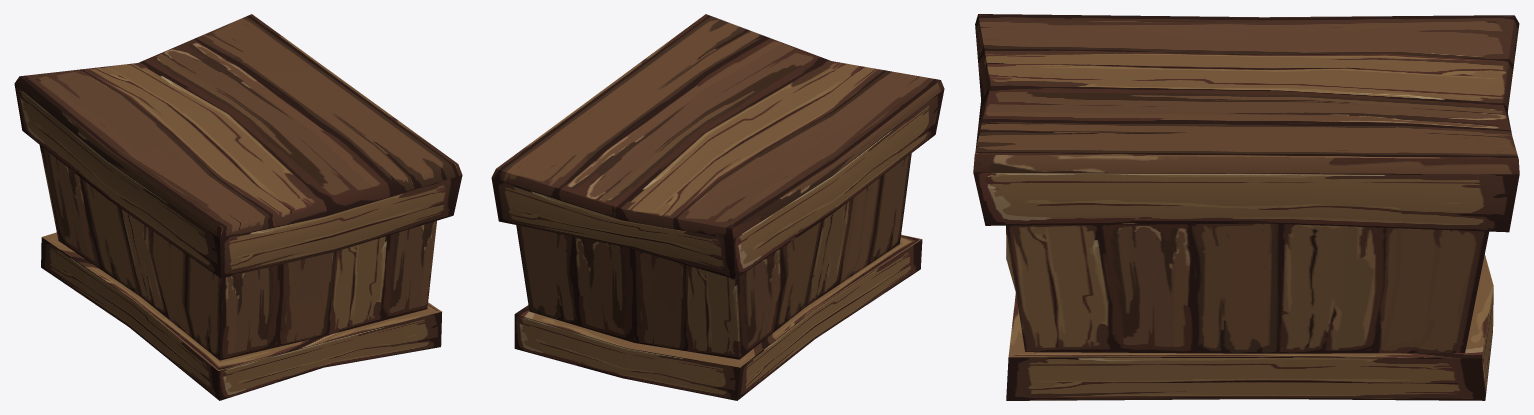
File: SM_PROP_box_dungeon_07.fbx
3 views of the same model, side by side, from view 1: azimuth 30°, elevation 25°; view 2: azimuth 150°, elevation 25°; view 3: azimuth 270°, elevation 25° (orthographic). The views are drawn at different scales.
Parts seen in each view (by area): view 1: SM_PROP_box_dungeon_07; view 2: SM_PROP_box_dungeon_07; view 3: SM_PROP_box_dungeon_07.
Part boxes in pixels (bbox=[...]): SM_PROP_box_dungeon_07: bbox=[14, 14, 462, 400]; SM_PROP_box_dungeon_07: bbox=[491, 14, 944, 400]; SM_PROP_box_dungeon_07: bbox=[973, 14, 1519, 400].
Size of the model in its own units: 84.43 by 62.94 by 125.
